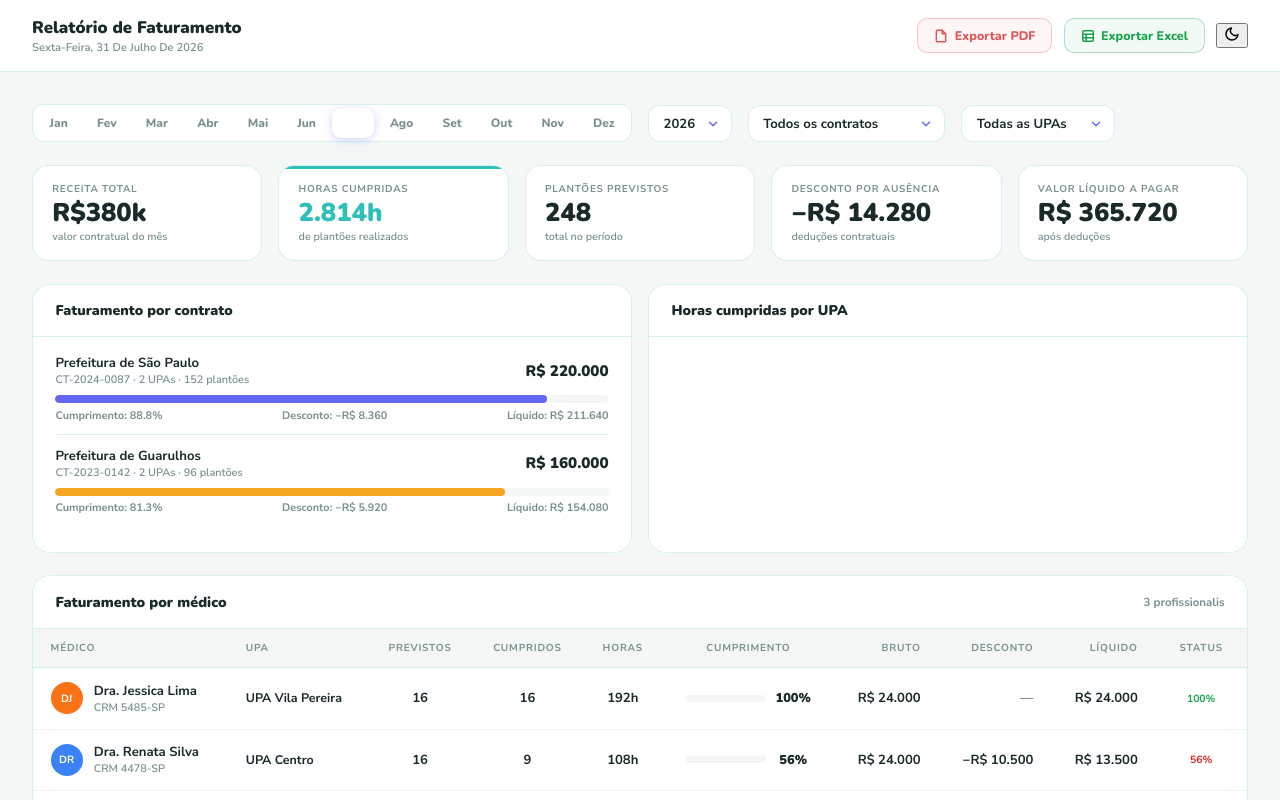
<AdminFaturamento /> › baixa o Excel e mostra toast de sucesso ao clicar em Exportar Excel
Check: the text "Dra. Jessica Lima" is shown, box x1=94 y1=682 x2=197 y2=700
Click the button "Exportar Excel": (1134, 36) x1=1064 y1=18 x2=1205 y2=53
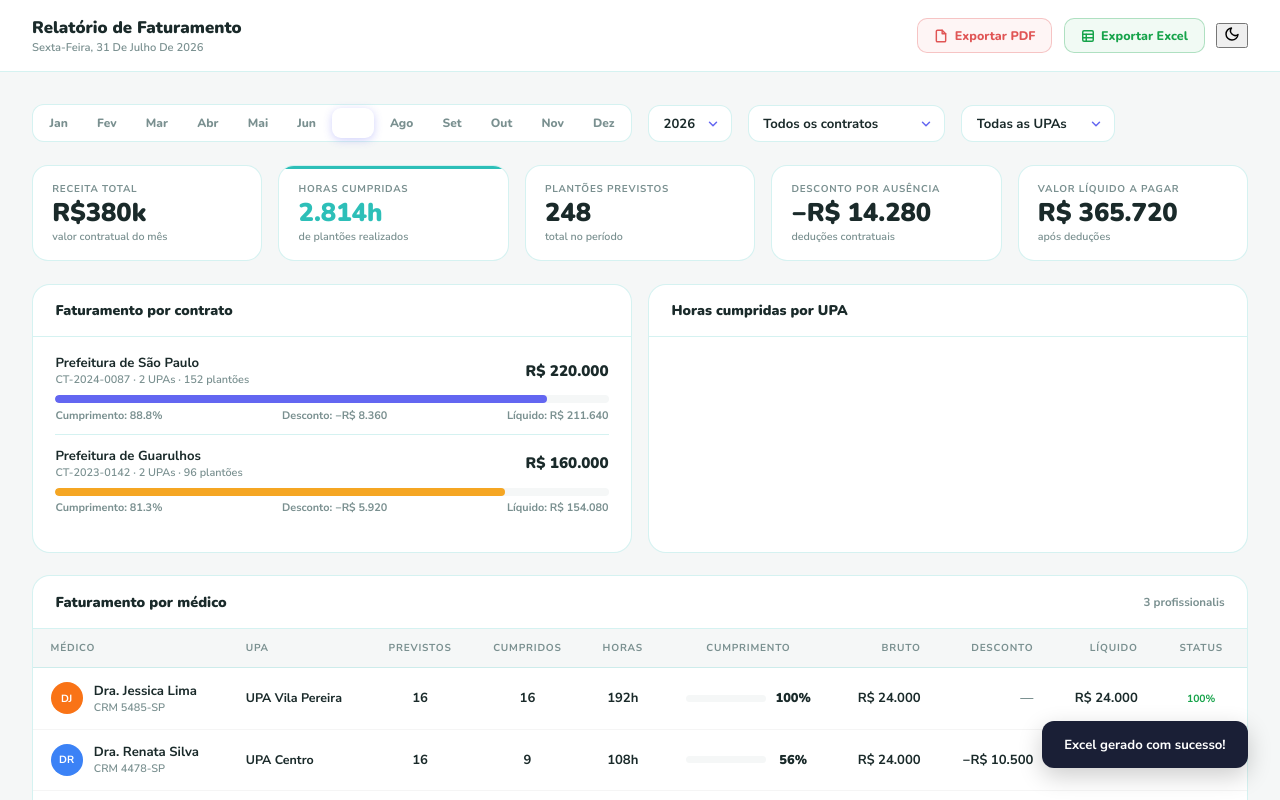
Check: the text with class "fat-toast" shows "Excel gerado com sucesso", box x1=1064 y1=736 x2=1226 y2=754
